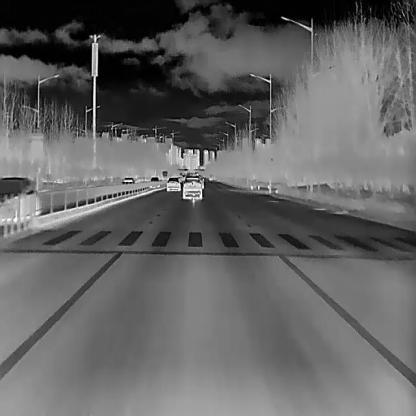car: (0, 175, 40, 225), (182, 175, 202, 199), (166, 176, 180, 191), (148, 177, 160, 189), (120, 176, 134, 184), (161, 169, 168, 180)
